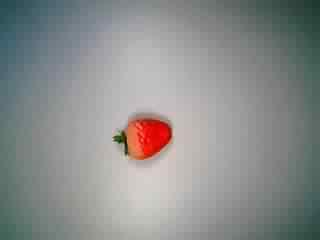strawberry: (111, 105, 179, 169)
